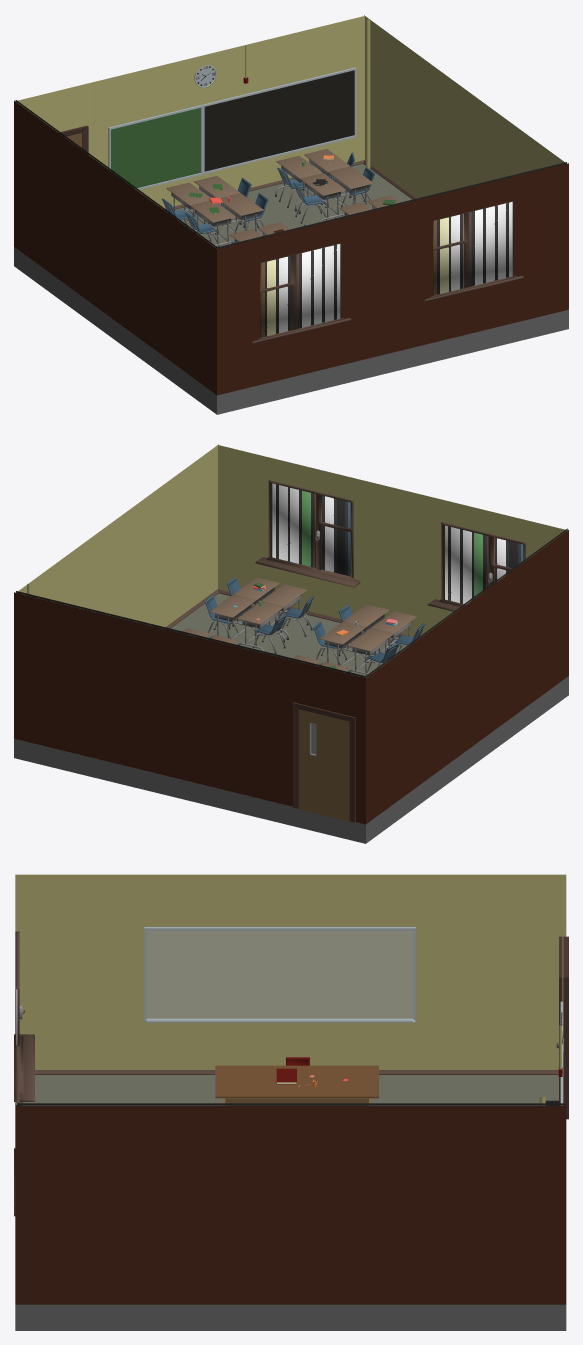
File: low-poly-classroom-open.glb
3 views of the same model, one above another, from view 1: azimuth 30°, elevation 25°; view 2: azimuth 150°, elevation 25°; view 3: azimuth 270°, elevation 25° (orthographic). The views are drawn at different scales.
Visible parts, largest first — view 1: low-poly-classroom-open-textured; view 2: low-poly-classroom-open-textured; view 3: low-poly-classroom-open-textured.
Boxes of the visible parts, bbox=[...] form: low-poly-classroom-open-textured: bbox=[14, 15, 568, 414]; low-poly-classroom-open-textured: bbox=[14, 444, 568, 843]; low-poly-classroom-open-textured: bbox=[14, 874, 568, 1330].
Size of the model in its own units: 35.2 by 16.25 by 35.46.
2 materials, 2 textured.
